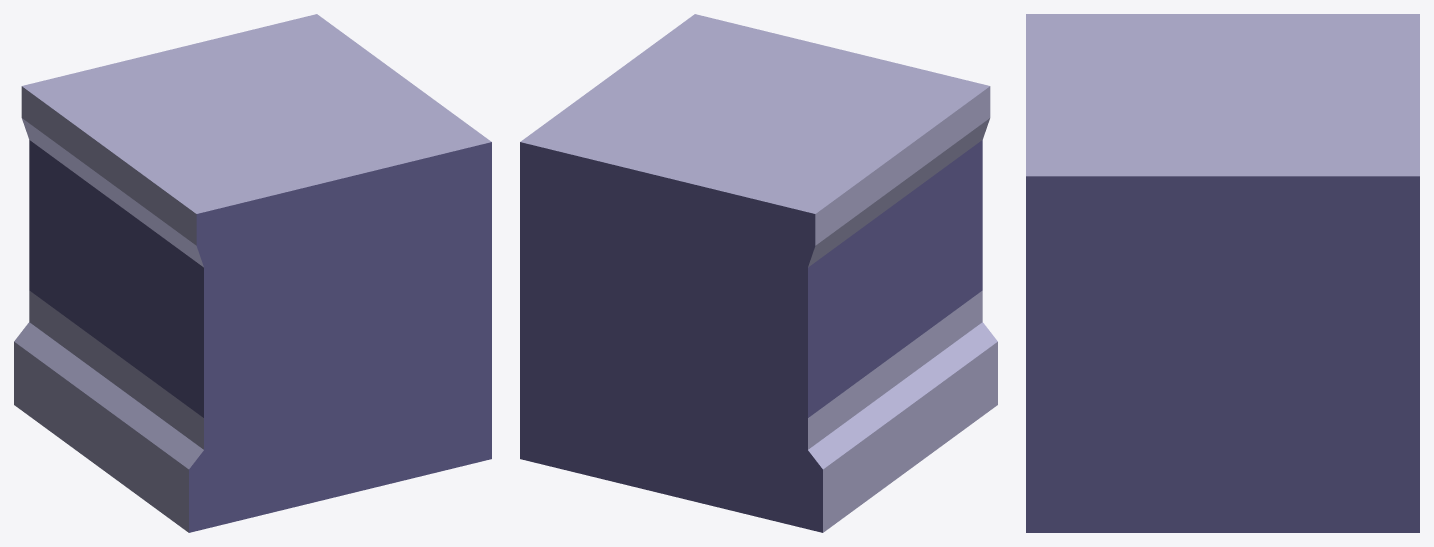
Rendered from Table_Side.fbx.
3 views of the same model, side by side, from view 1: azimuth 30°, elevation 25°; view 2: azimuth 150°, elevation 25°; view 3: azimuth 270°, elevation 25° (orthographic). The views are drawn at different scales.
Parts seen in each view (by area): view 1: floor_side; view 2: floor_side; view 3: floor_side.
Boxes of the visible parts, x1,y1,x2,y2 form: floor_side: [14, 14, 491, 532]; floor_side: [520, 14, 997, 532]; floor_side: [1026, 14, 1419, 532].
Bounding box in the file's own units: 10 × 10 × 10.
